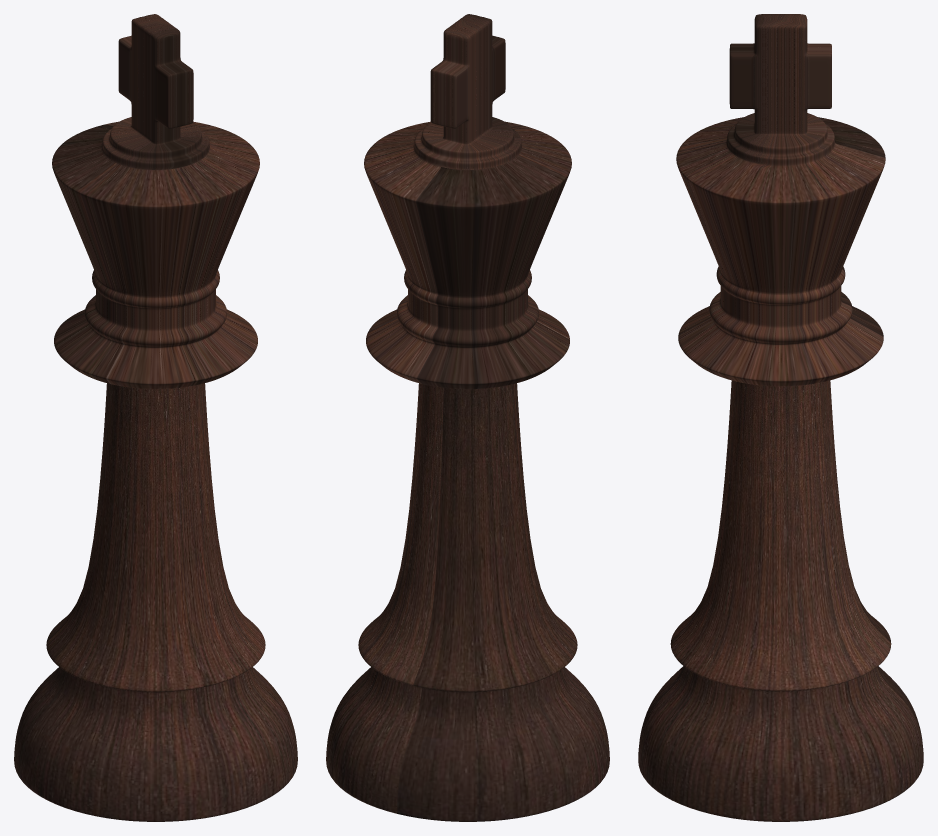
File: BLACK_KING.glb
The picture shows the model from 3 angles, left to right: view 1: azimuth 30°, elevation 25°; view 2: azimuth 150°, elevation 25°; view 3: azimuth 270°, elevation 25°; orthographic projection.
Visible parts, largest first — view 1: Cylinder005; view 2: Cylinder005; view 3: Cylinder005.
Boxes of the visible parts, x1,y1,x2,y2 form: Cylinder005: (14,14,297,821); Cylinder005: (326,14,609,821); Cylinder005: (638,14,923,821).
Bounding box in the file's own units: 0.6752 × 1.94 × 0.6752.
Materials: 1 (1 with a texture image).
